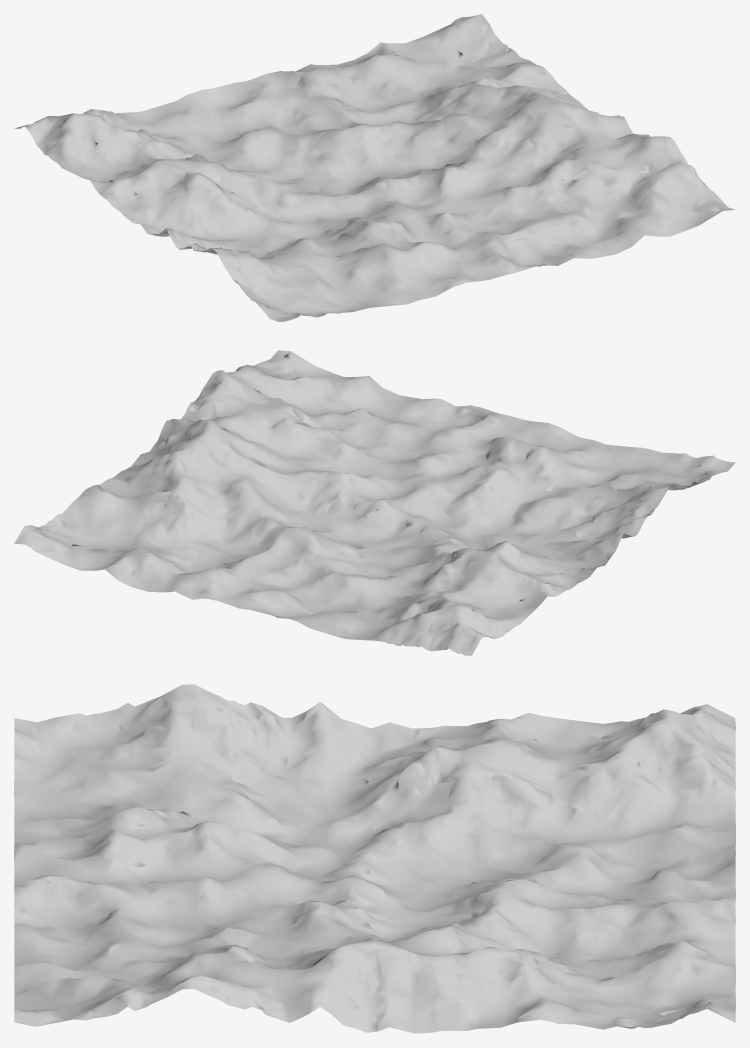
The model's file is landscape.obj.
3 renders of one model, top to bottom at view 1: azimuth 30°, elevation 25°; view 2: azimuth 150°, elevation 25°; view 3: azimuth 270°, elevation 25°, orthographic. The views are drawn at different scales.
Parts seen in each view (by area): view 1: terrain_g; view 2: terrain_g; view 3: terrain_g.
Boxes of the visible parts, bbox=[...] form: terrain_g: bbox=[15, 14, 735, 321]; terrain_g: bbox=[14, 350, 735, 655]; terrain_g: bbox=[14, 684, 735, 1033].
Bounding box in the file's own units: 205 × 23.71 × 205.
